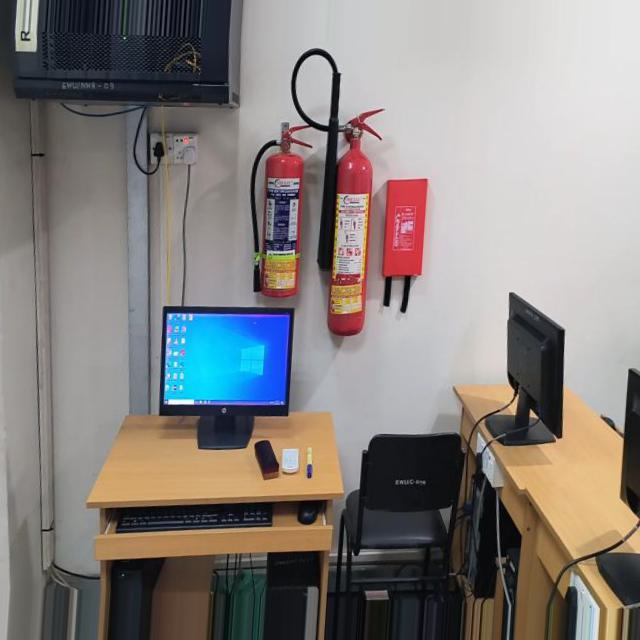Chair: (353, 444, 450, 588)
Cpu: (461, 485, 485, 631), (288, 586, 334, 639), (484, 522, 504, 584)
Fire Extinguisher: (326, 76, 362, 336), (264, 96, 299, 296)
Keyboard: (158, 532, 290, 572)
Monitor: (569, 363, 640, 639), (186, 308, 298, 472), (468, 281, 533, 456)
Mouse: (311, 529, 330, 555)
